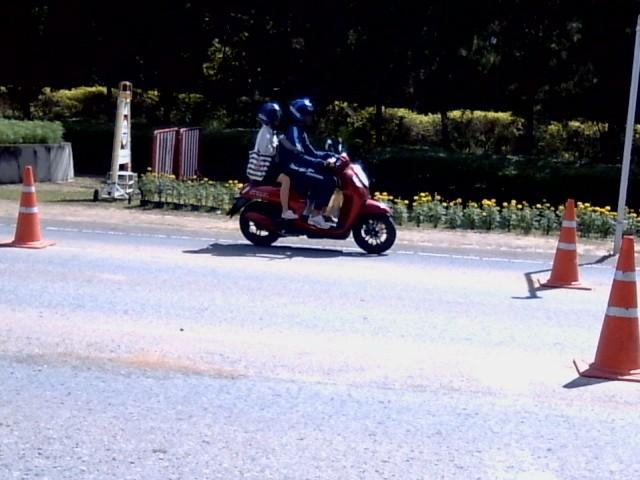helmet: (288, 97, 318, 124), (257, 102, 281, 127)
motor: (226, 153, 395, 253)
person: (280, 98, 335, 228), (248, 103, 297, 218)
